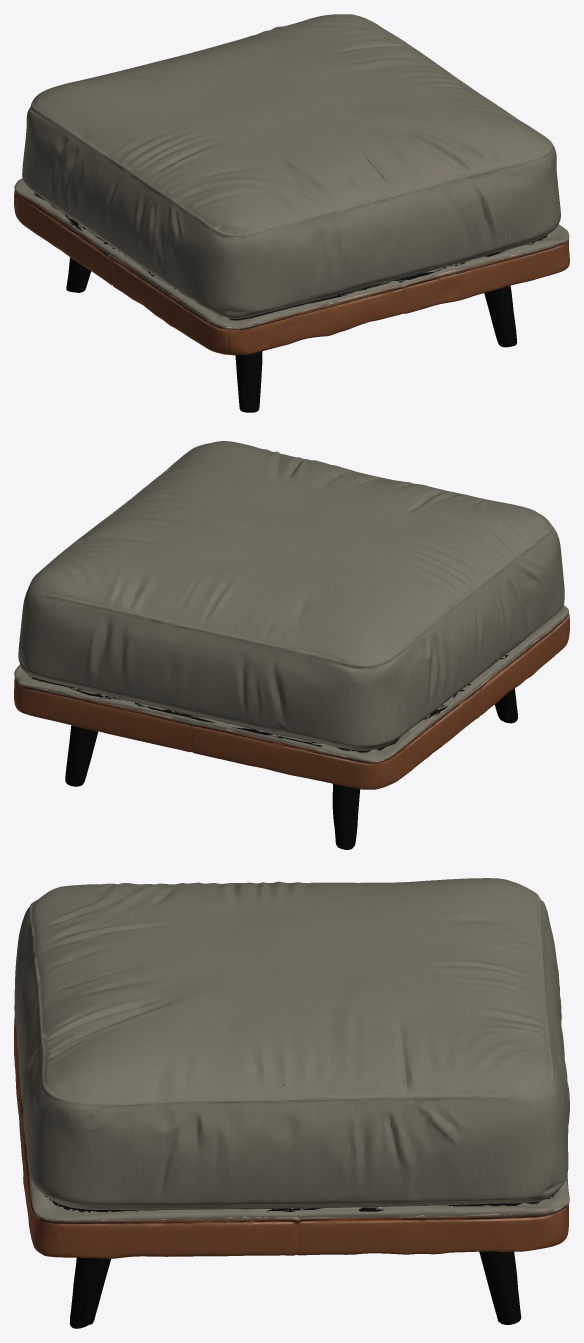
The picture shows the model from 3 angles, top to bottom: view 1: azimuth 30°, elevation 25°; view 2: azimuth 150°, elevation 25°; view 3: azimuth 270°, elevation 25°; orthographic projection. The views are drawn at different scales.
Visible parts, largest first — view 1: tripo_node_1e964ff2-eb25-4ee2-b908-6c71e62e8a19; view 2: tripo_node_1e964ff2-eb25-4ee2-b908-6c71e62e8a19; view 3: tripo_node_1e964ff2-eb25-4ee2-b908-6c71e62e8a19.
Part boxes in pixels (bbox=[...]): tripo_node_1e964ff2-eb25-4ee2-b908-6c71e62e8a19: bbox=[14, 14, 569, 412]; tripo_node_1e964ff2-eb25-4ee2-b908-6c71e62e8a19: bbox=[14, 441, 569, 849]; tripo_node_1e964ff2-eb25-4ee2-b908-6c71e62e8a19: bbox=[14, 878, 569, 1328].
Size of the model in its own units: 0.72 by 0.4 by 0.72.
Materials: 2 (2 with a texture image).
